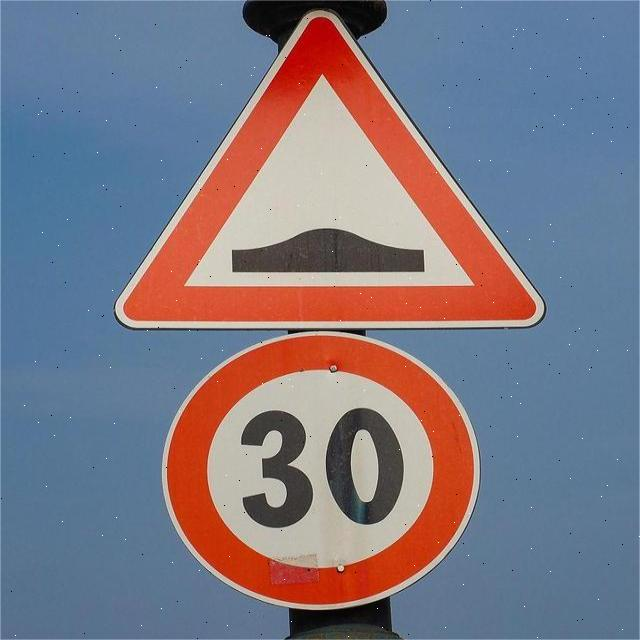speed limit 30: (160, 334, 482, 612)
